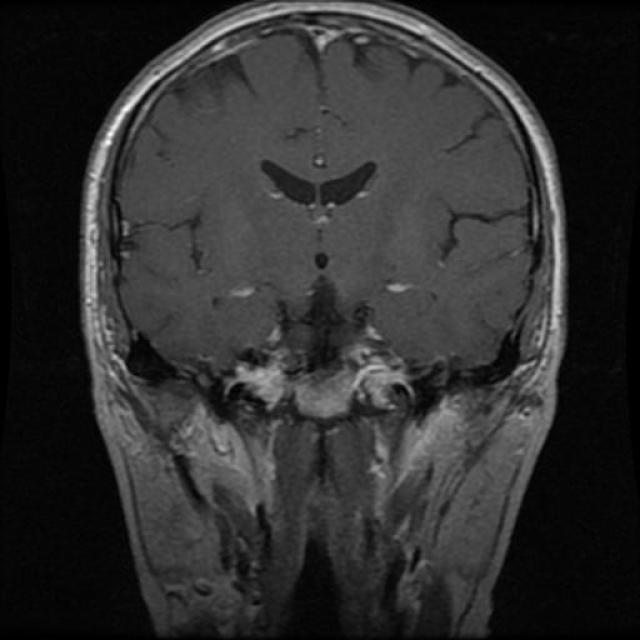pituitary: (252, 276, 404, 422)
